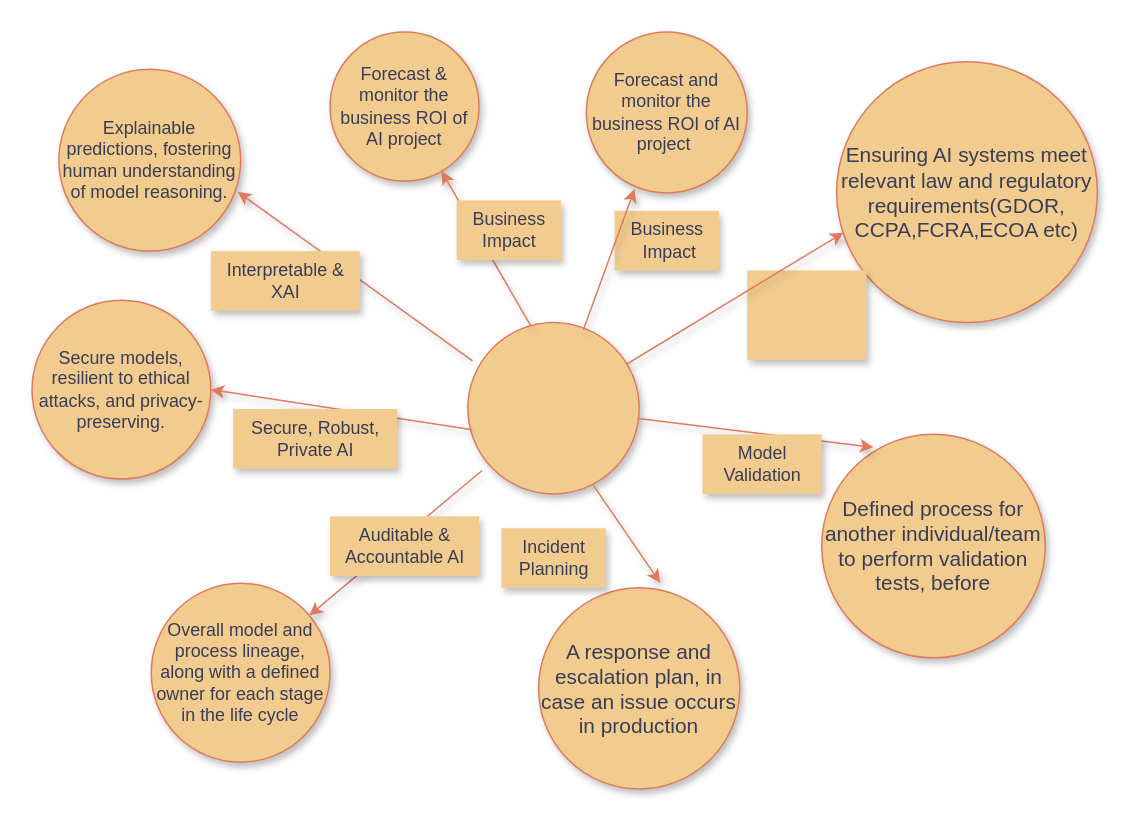
The diagram is 1132 pixels wide and 825 high, and some of its shapes have lost their labels. Each missing label, with the centre of its shape:
"End User & Societal Impact" goes at (808,317).
"Explainable AI" goes at (554,409).
